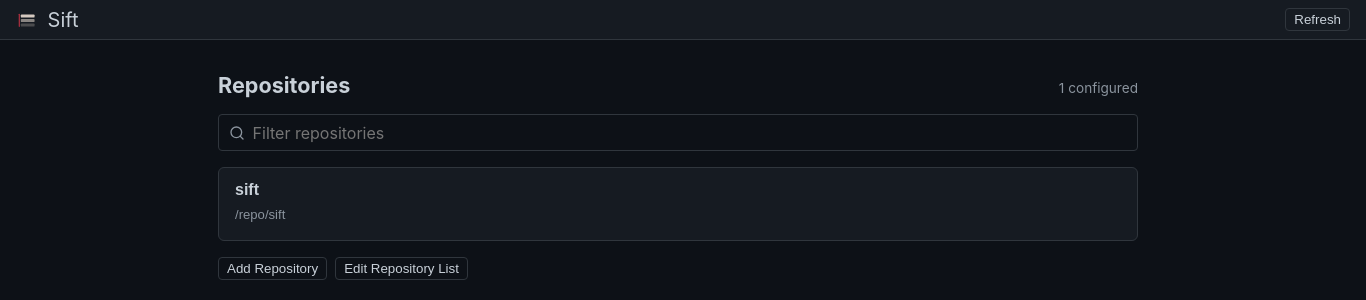
it: RepositorySelection › disables dragging for pending delete rows
This screenshot has width=1366, height=300.
Click the button "Edit Repository List" at (402, 268), box top-left (335, 257), bottom-right (468, 280)
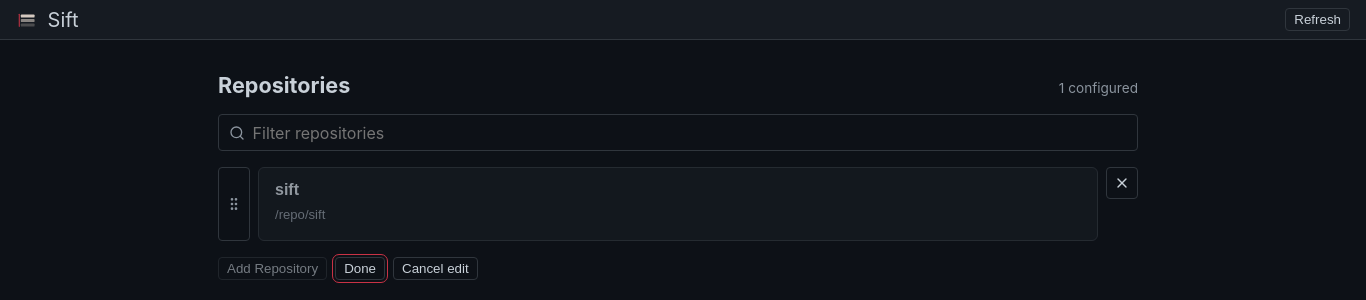
Click the button named "Remove sift" at (1122, 183), box top-left (1106, 167), bottom-right (1138, 199)
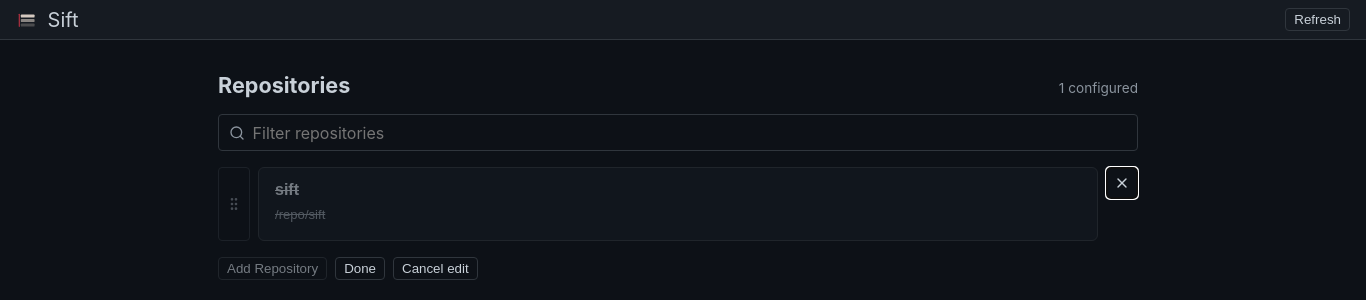
Result: the button named "Drag sift" is disabled at top-left (218, 167), bottom-right (250, 241)
